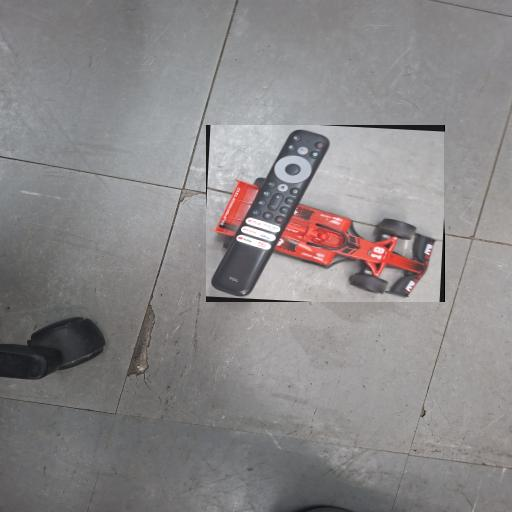carro: (207, 125, 444, 302)
